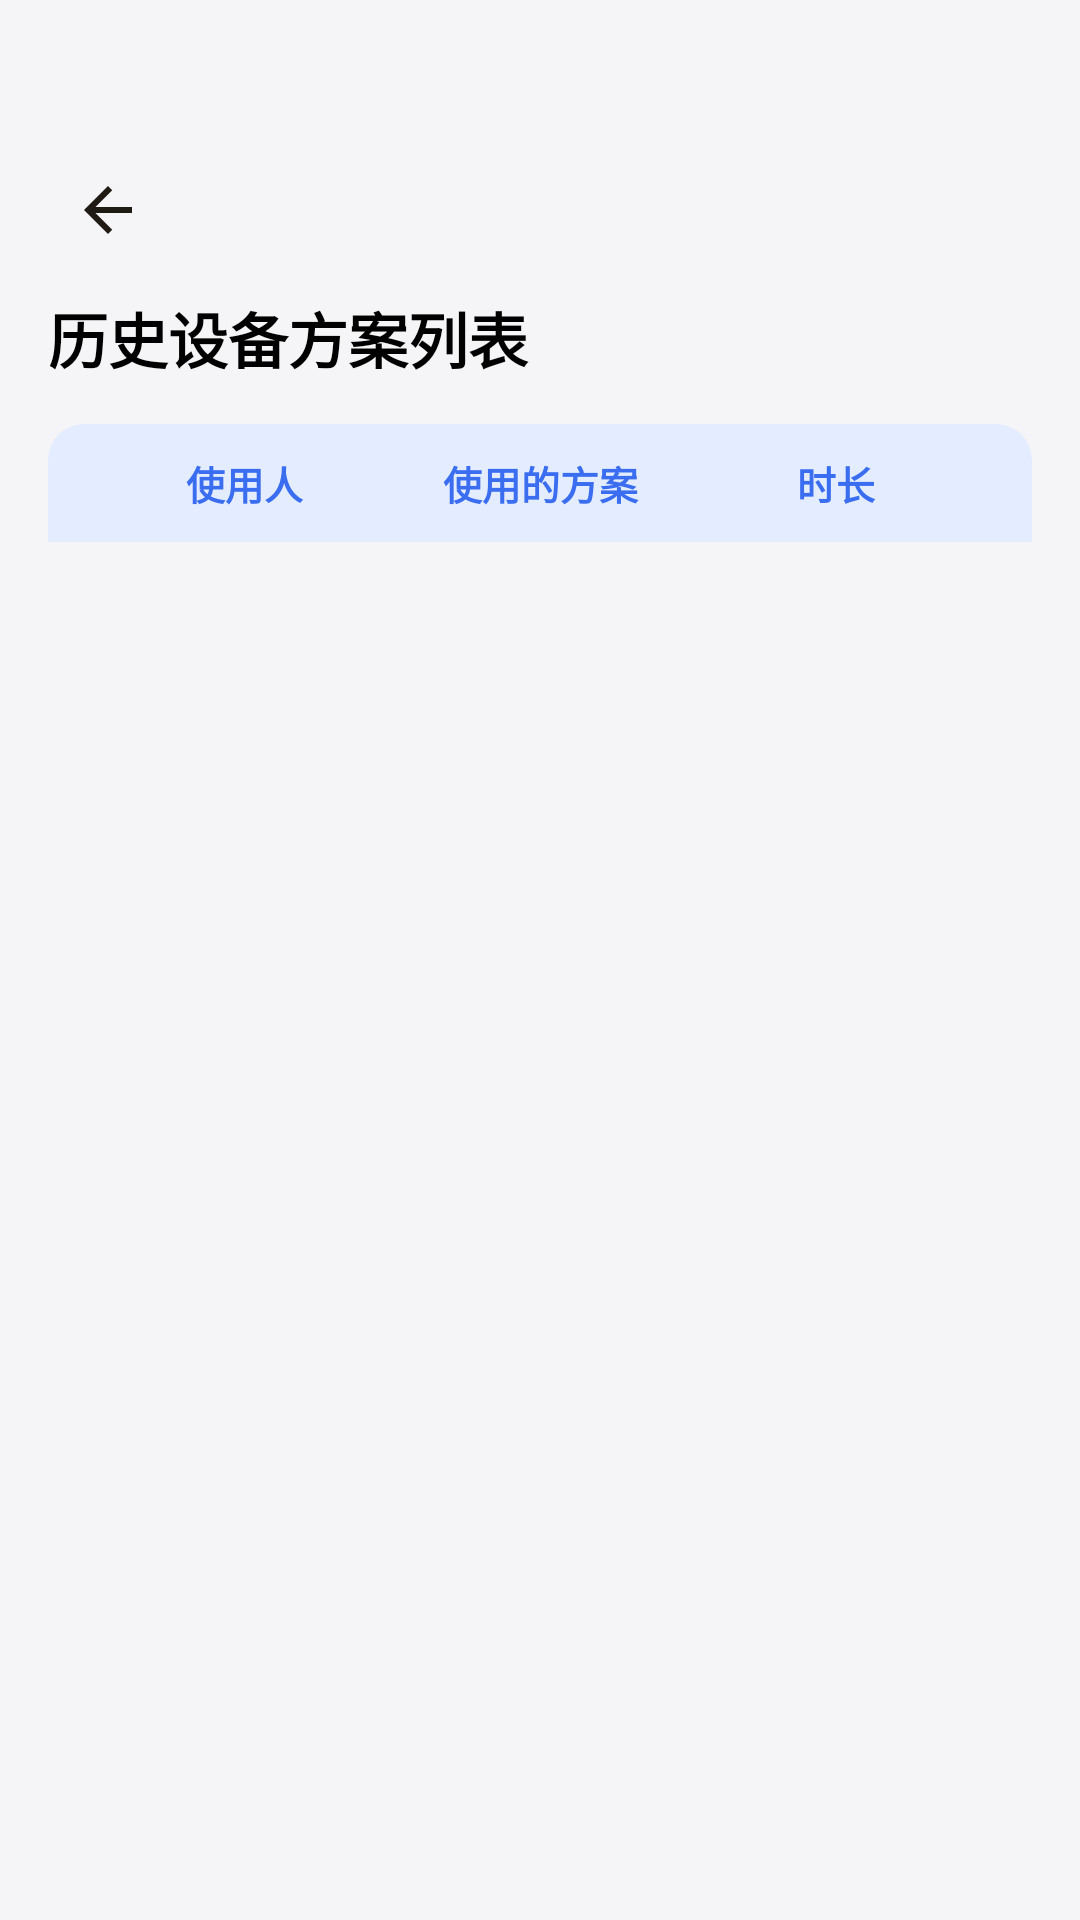

Icons on this 1080×1920 Android screen, each with the point to tap as (x=x, y=y):
返回: (x=108, y=210)
